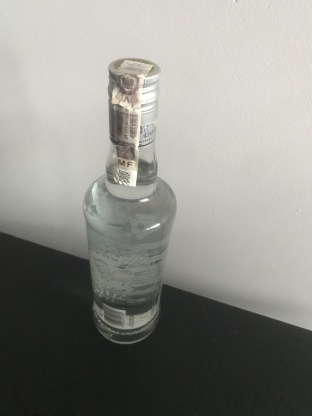nakretka: (106, 56, 161, 147)
